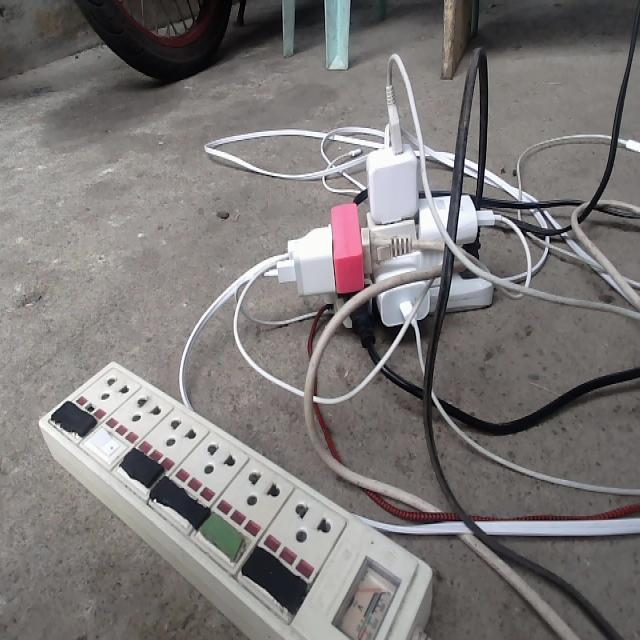-: (272, 107, 506, 337)
